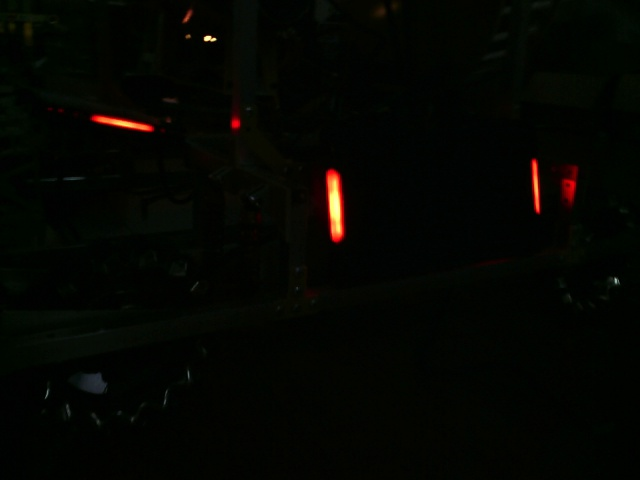lamp: (318, 167, 348, 244)
